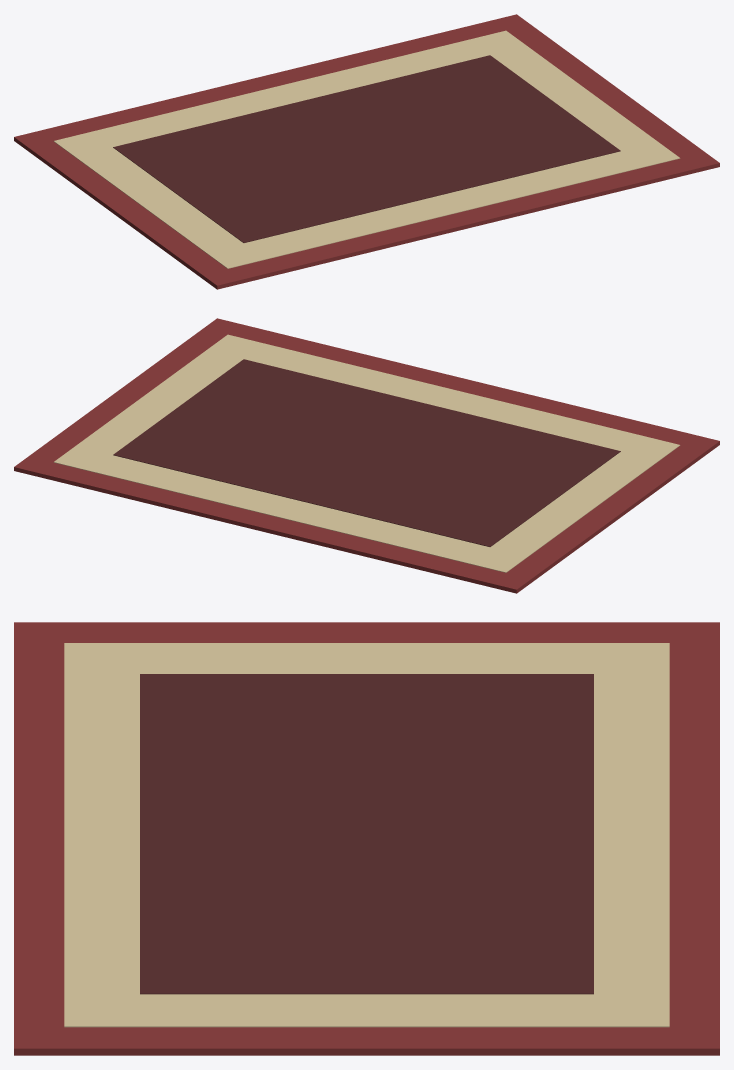
The model's file is rug.glb.
3 views of the same model, one above another, from view 1: azimuth 30°, elevation 25°; view 2: azimuth 150°, elevation 25°; view 3: azimuth 270°, elevation 25° (orthographic). The views are drawn at different scales.
Parts seen in each view (by area): view 1: rug; view 2: rug; view 3: rug.
Boxes of the visible parts, bbox=[...] form: rug: bbox=[14, 14, 719, 289]; rug: bbox=[14, 318, 719, 593]; rug: bbox=[14, 622, 719, 1055].
Bounding box in the file's own units: 2 × 0.019 × 1.4.
